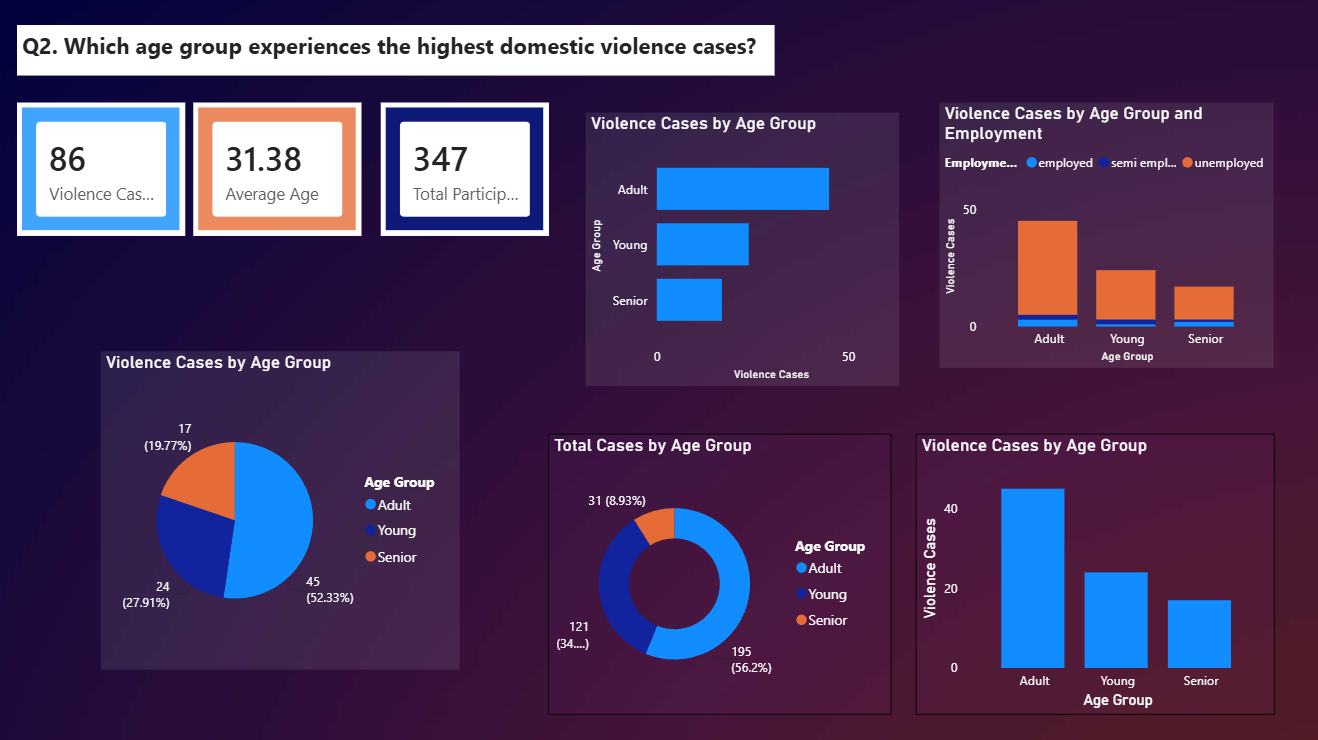

The page's visual inventory and layout, read from the dashboard file:
{"tool":"powerbi","page":{"name":"Page 2","canvas":[1280,720],"ordinal":1},"visuals":[{"type":"textbox","box":[18.8,28.8,731.2,48.8],"z":1},{"type":"cardVisual","fields":{"Data":["Domestic violence.Violence Cases"]},"box":[18.8,103.8,162.5,128.8],"z":6},{"type":"cardVisual","fields":{"Data":["Domestic violence.Average Age"]},"box":[190,103.8,162.5,128.8],"z":7},{"type":"cardVisual","fields":{"Data":["Domestic violence.Total Participants"]},"box":[370,103.8,162.5,128.8],"z":8},{"type":"pieChart","fields":{"Category":["Domestic violence.Age Group"],"Y":["Domestic violence.Violence Cases"]},"box":[100,343.8,346.2,307.5],"z":9},{"type":"clusteredColumnChart","fields":{"Category":["Domestic violence.Age Group"],"Y":["Domestic violence.Violence Cases"]},"box":[886.2,423.8,346.2,271.2],"z":10},{"type":"donutChart","fields":{"Category":["Domestic violence.Age Group"],"Y":["Domestic violence.Total Cases"]},"box":[532.5,423.8,331.2,271.2],"z":11},{"type":"columnChart","fields":{"Category":["Domestic violence.Age Group"],"Y":["Domestic violence.Violence Cases"],"Series":["Domestic violence.Employment "]},"box":[910,103.8,322.5,256.2],"z":12},{"type":"barChart","fields":{"Category":["Domestic violence.Age Group"],"Y":["Domestic violence.Violence Cases"]},"box":[568.8,113.8,302.5,263.8],"z":13}]}

Visuals, with their boxes in screenshot pixels (x1, y1, x2, y2), scaled from the page's 1280x720 canvas onto the 1318x740 screenshot:
textbox: 19:30:772:80
cardVisual - Domestic violence.Violence Cases: 19:107:187:239
cardVisual - Domestic violence.Average Age: 196:107:363:239
cardVisual - Domestic violence.Total Participants: 381:107:548:239
pieChart - Domestic violence.Age Group x Domestic violence.Violence Cases: 103:353:459:669
clusteredColumnChart - Domestic violence.Age Group x Domestic violence.Violence Cases: 913:436:1269:714
donutChart - Domestic violence.Age Group x Domestic violence.Total Cases: 548:436:889:714
columnChart - Domestic violence.Age Group x Domestic violence.Violence Cases: 937:107:1269:370
barChart - Domestic violence.Age Group x Domestic violence.Violence Cases: 586:117:897:388
